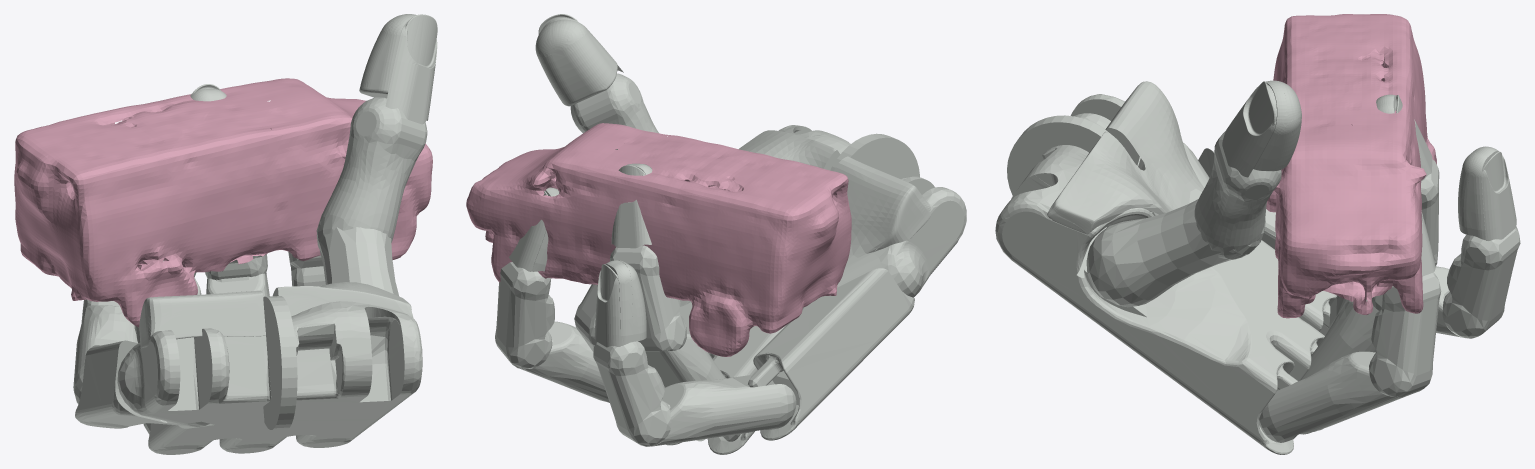
3 views of the same model, side by side, from view 1: azimuth 30°, elevation 25°; view 2: azimuth 150°, elevation 25°; view 3: azimuth 270°, elevation 25° (orthographic). The views are drawn at different scales.
Visible parts, largest first — view 1: hand, world; view 2: hand, world; view 3: hand, world.
Part boxes in pixels (<box>): hand: <box>73,14,437,454</box>; world: <box>14,78,432,327</box>; hand: <box>495,14,966,454</box>; world: <box>466,123,851,356</box>; hand: <box>995,80,1520,454</box>; world: <box>1266,14,1436,318</box>.
Bounding box in the file's own units: 0.1343 × 0.1365 × 0.158.
